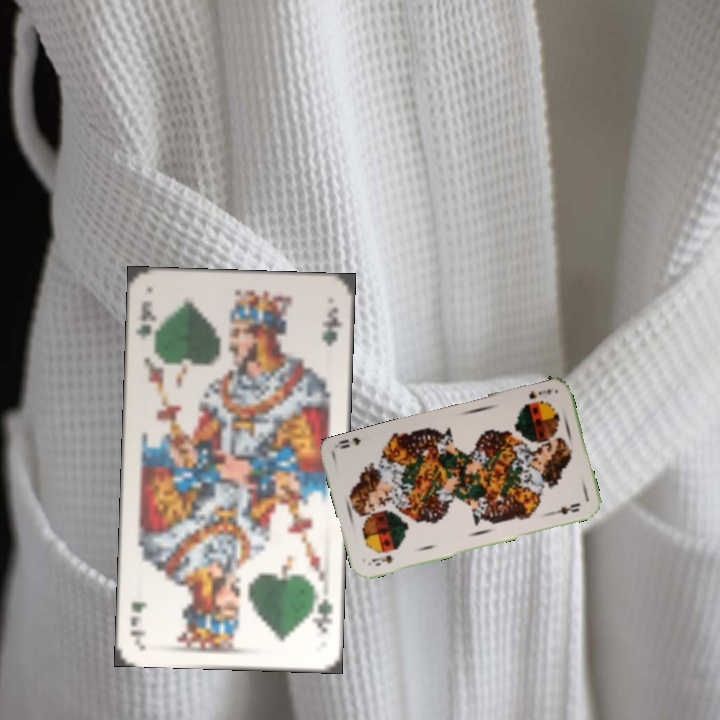GK: (132, 296, 160, 343), (308, 594, 336, 635)
SO: (525, 385, 555, 402), (368, 551, 395, 569)
